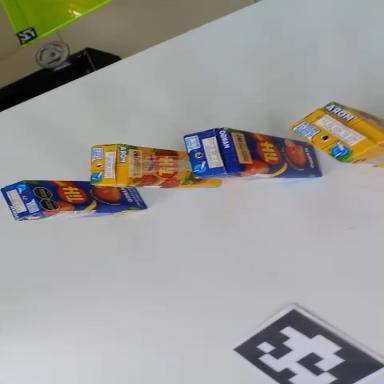HIT-MANGO: (182, 126, 324, 183), (0, 173, 147, 221)
HIT-MORA: (285, 92, 384, 174), (91, 142, 221, 190)
cara_F: (220, 127, 328, 186), (24, 180, 148, 214), (126, 145, 221, 187), (329, 102, 384, 135)
